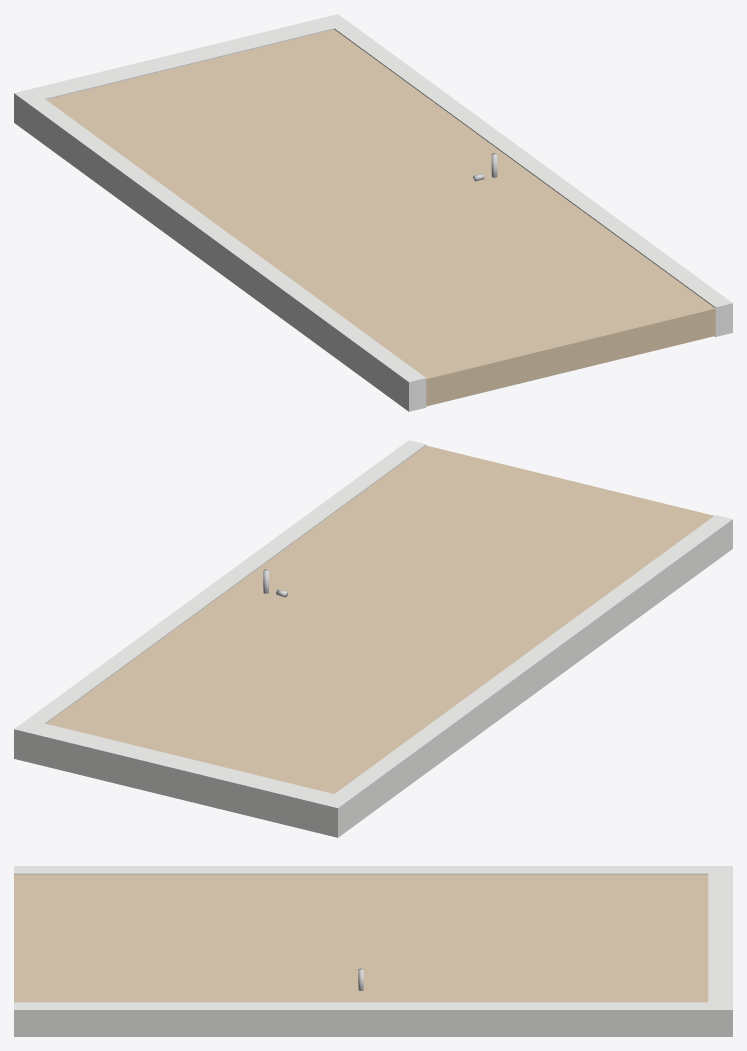
File: p2s_opening_door_single.glb
3 views of the same model, one above another, from view 1: azimuth 30°, elevation 25°; view 2: azimuth 150°, elevation 25°; view 3: azimuth 270°, elevation 25° (orthographic). The views are drawn at different scales.
Visible parts, largest first — view 1: DoorLeaf, DoorFrameLeft, DoorFrameRight, DoorFrameHeader; view 2: DoorLeaf, DoorFrameLeft, DoorFrameHeader, DoorFrameRight; view 3: DoorLeaf, DoorFrameRight, DoorFrameLeft, DoorFrameHeader.
Part boxes in pixels (bbox=[...]): DoorLeaf: bbox=[46, 29, 715, 406]; DoorFrameLeft: bbox=[27, 99, 426, 411]; DoorFrameRight: bbox=[334, 24, 732, 336]; DoorFrameHeader: bbox=[14, 14, 350, 132]; DoorLeaf: bbox=[46, 445, 713, 793]; DoorFrameLeft: bbox=[335, 515, 732, 827]; DoorFrameHeader: bbox=[14, 719, 351, 837]; DoorFrameRight: bbox=[28, 440, 426, 723]; DoorLeaf: bbox=[14, 874, 708, 1002]; DoorFrameRight: bbox=[14, 1002, 708, 1036]; DoorFrameLeft: bbox=[14, 866, 708, 874]; DoorFrameHeader: bbox=[708, 866, 732, 1036].
Bounding box in the file's own units: 1.03 × 0.1528 × 2.18.
